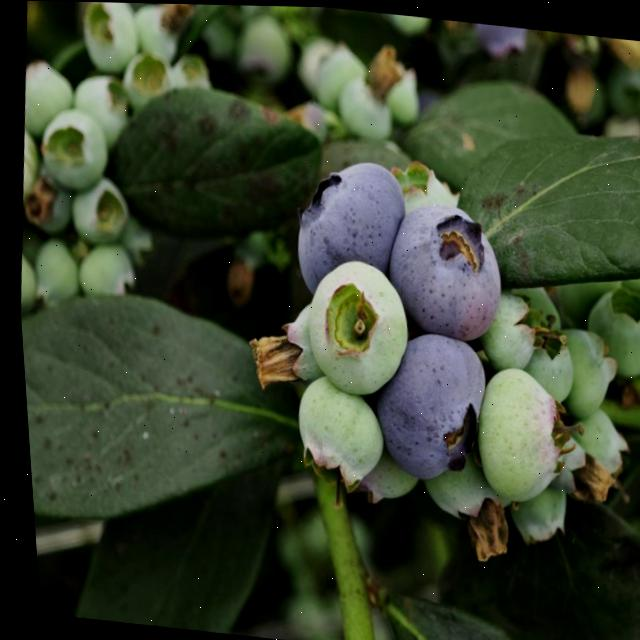RipeBlueBerry: (364, 323, 490, 486), (282, 151, 411, 303), (373, 193, 506, 340)
UnripeBlueBerry: (292, 251, 413, 403), (458, 358, 570, 509)
